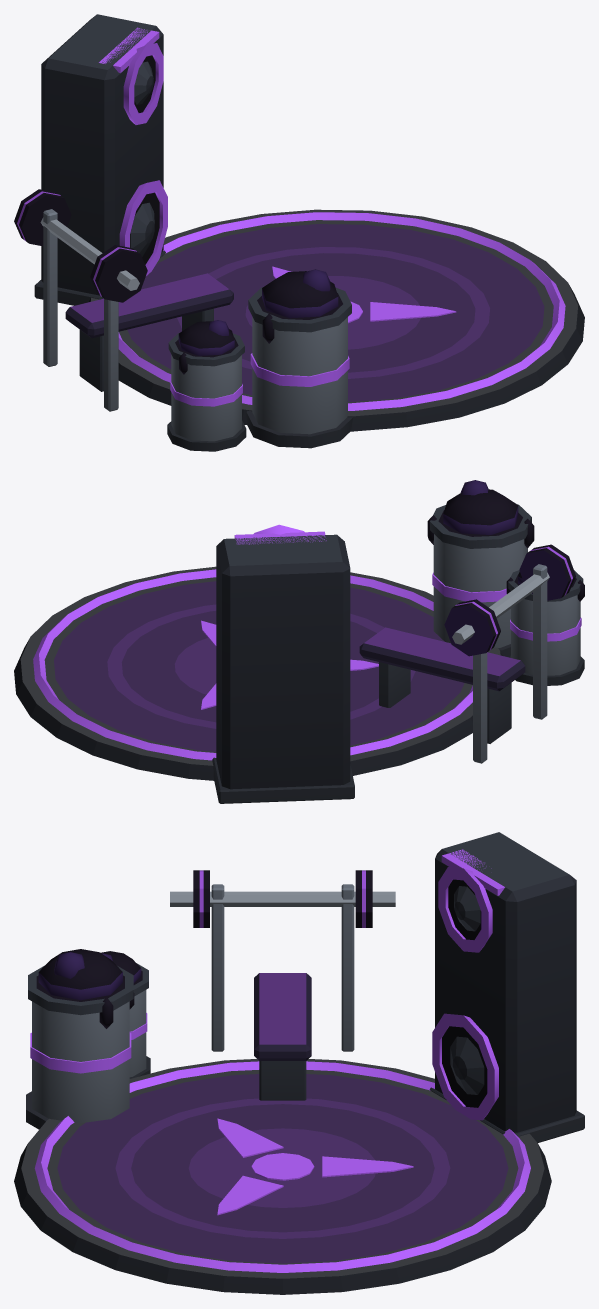
Rendered from train_4.glb.
3 renders of one model, top to bottom at view 1: azimuth 30°, elevation 25°; view 2: azimuth 150°, elevation 25°; view 3: azimuth 270°, elevation 25°, orthographic. The views are drawn at different scales.
Parts seen in each view (by area): view 1: Body, Glow; view 2: Body, Glow; view 3: Body, Glow.
Boxes of the visible parts, left/top/right/bottom form: Body: left=14, top=14, right=584, bottom=451; Glow: left=99, top=27, right=565, bottom=410; Body: left=14, top=480, right=584, bottom=803; Glow: left=33, top=524, right=581, bottom=760; Body: left=14, top=832, right=584, bottom=1294; Glow: left=30, top=849, right=530, bottom=1272.
Bounding box in the file's own units: 3.38 × 1.59 × 3.16.
